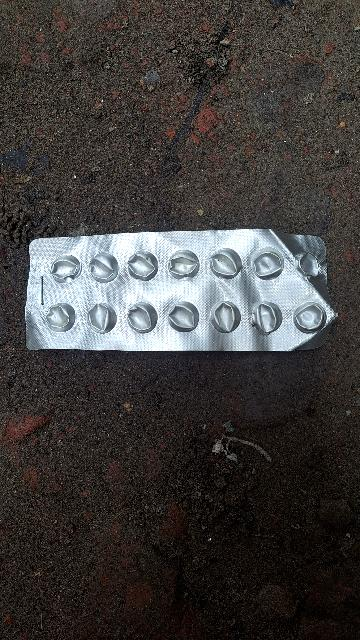medicine: (28, 229, 338, 354)
